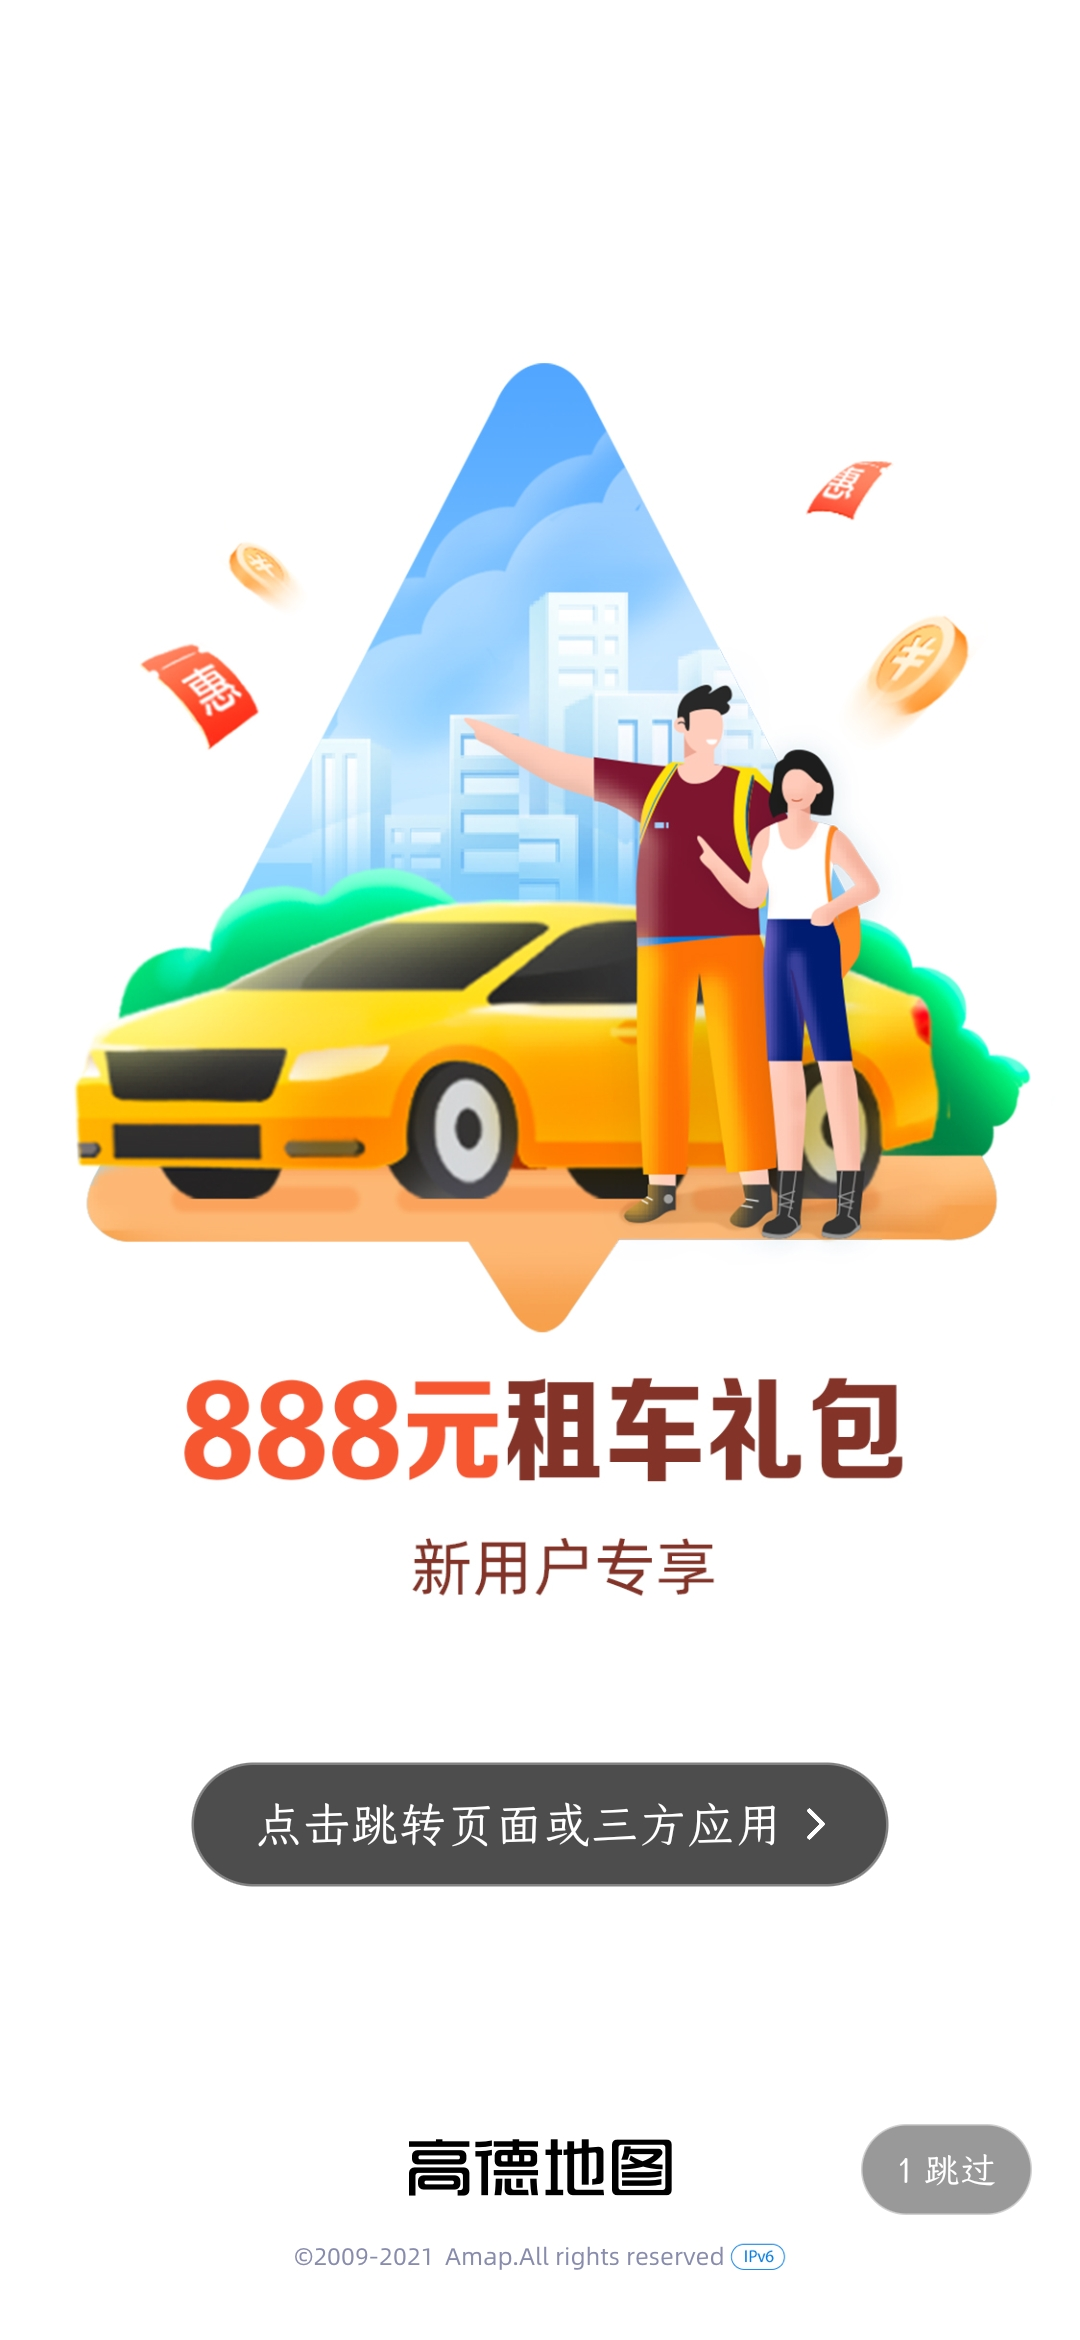skip: (870, 2140, 1013, 2212)
